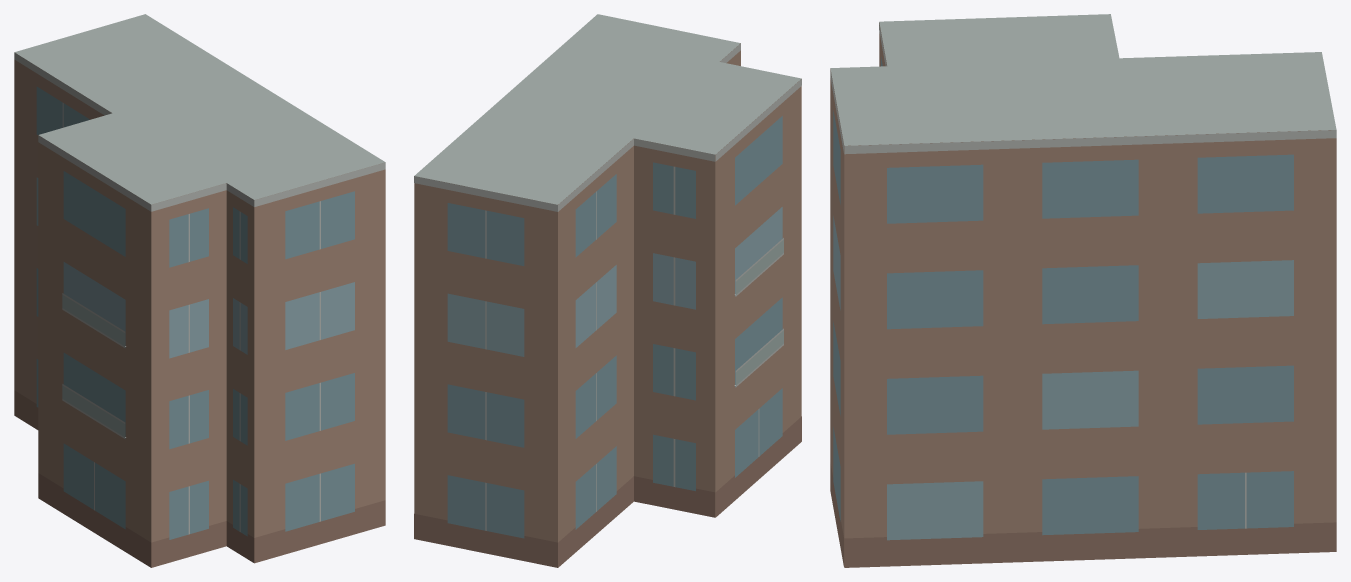
The model's file is survey-upis-32899105.glb.
3 renders of one model, left to right at view 1: azimuth 30°, elevation 25°; view 2: azimuth 150°, elevation 25°; view 3: azimuth 270°, elevation 25°, orthographic. The views are drawn at different scales.
Parts seen in each view (by area): view 1: survey-upis-32899105.tmp; view 2: survey-upis-32899105.tmp; view 3: survey-upis-32899105.tmp.
Part boxes in pixels (x1,y1,x2,y2): survey-upis-32899105.tmp: [14, 14, 385, 567]; survey-upis-32899105.tmp: [414, 14, 801, 567]; survey-upis-32899105.tmp: [830, 14, 1336, 567].
Size of the model in its own units: 8.32 by 12.4 by 13.49.
